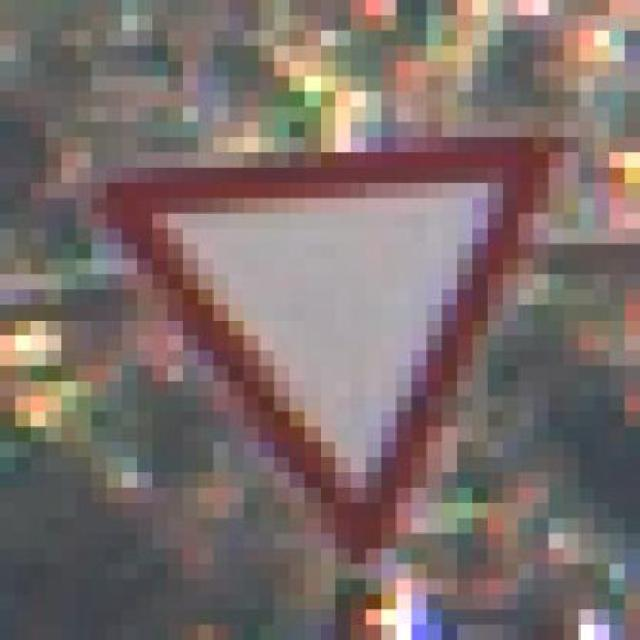Give Way: (76, 122, 595, 595)
